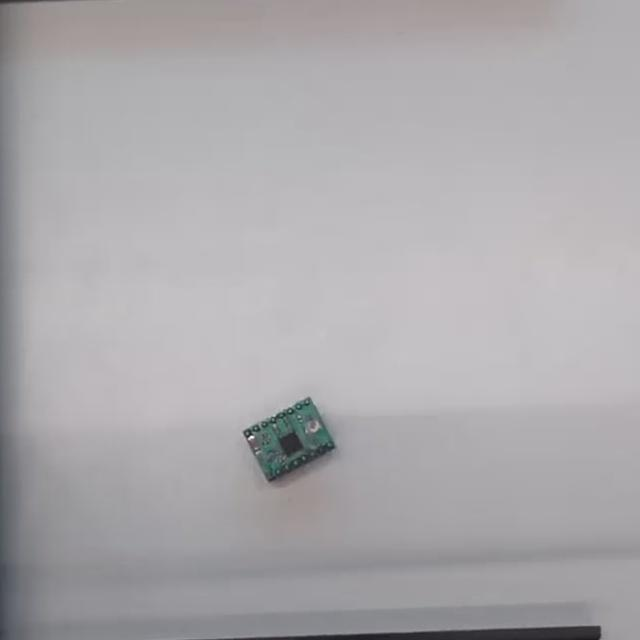Chip: (238, 398, 340, 484)
